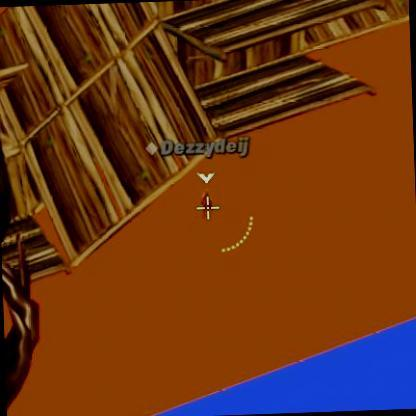person: (201, 192, 211, 210)
